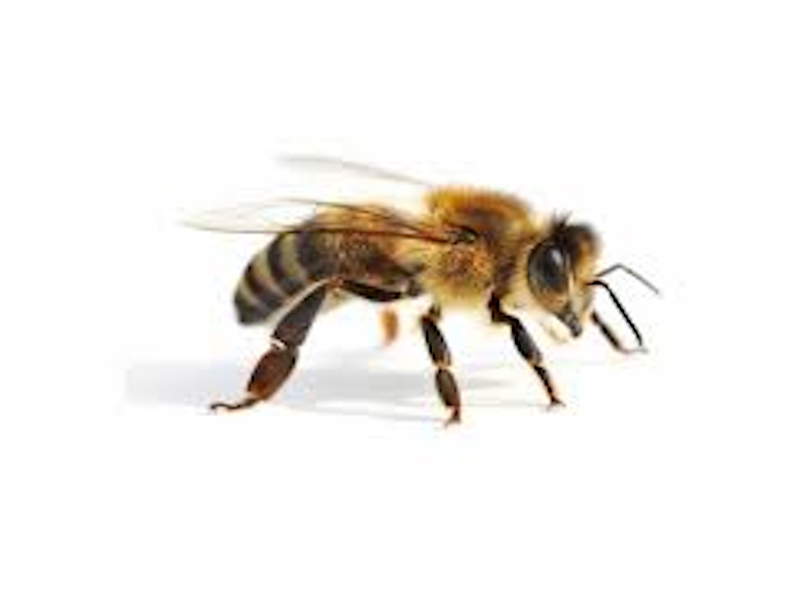abeja: (179, 138, 688, 434)
